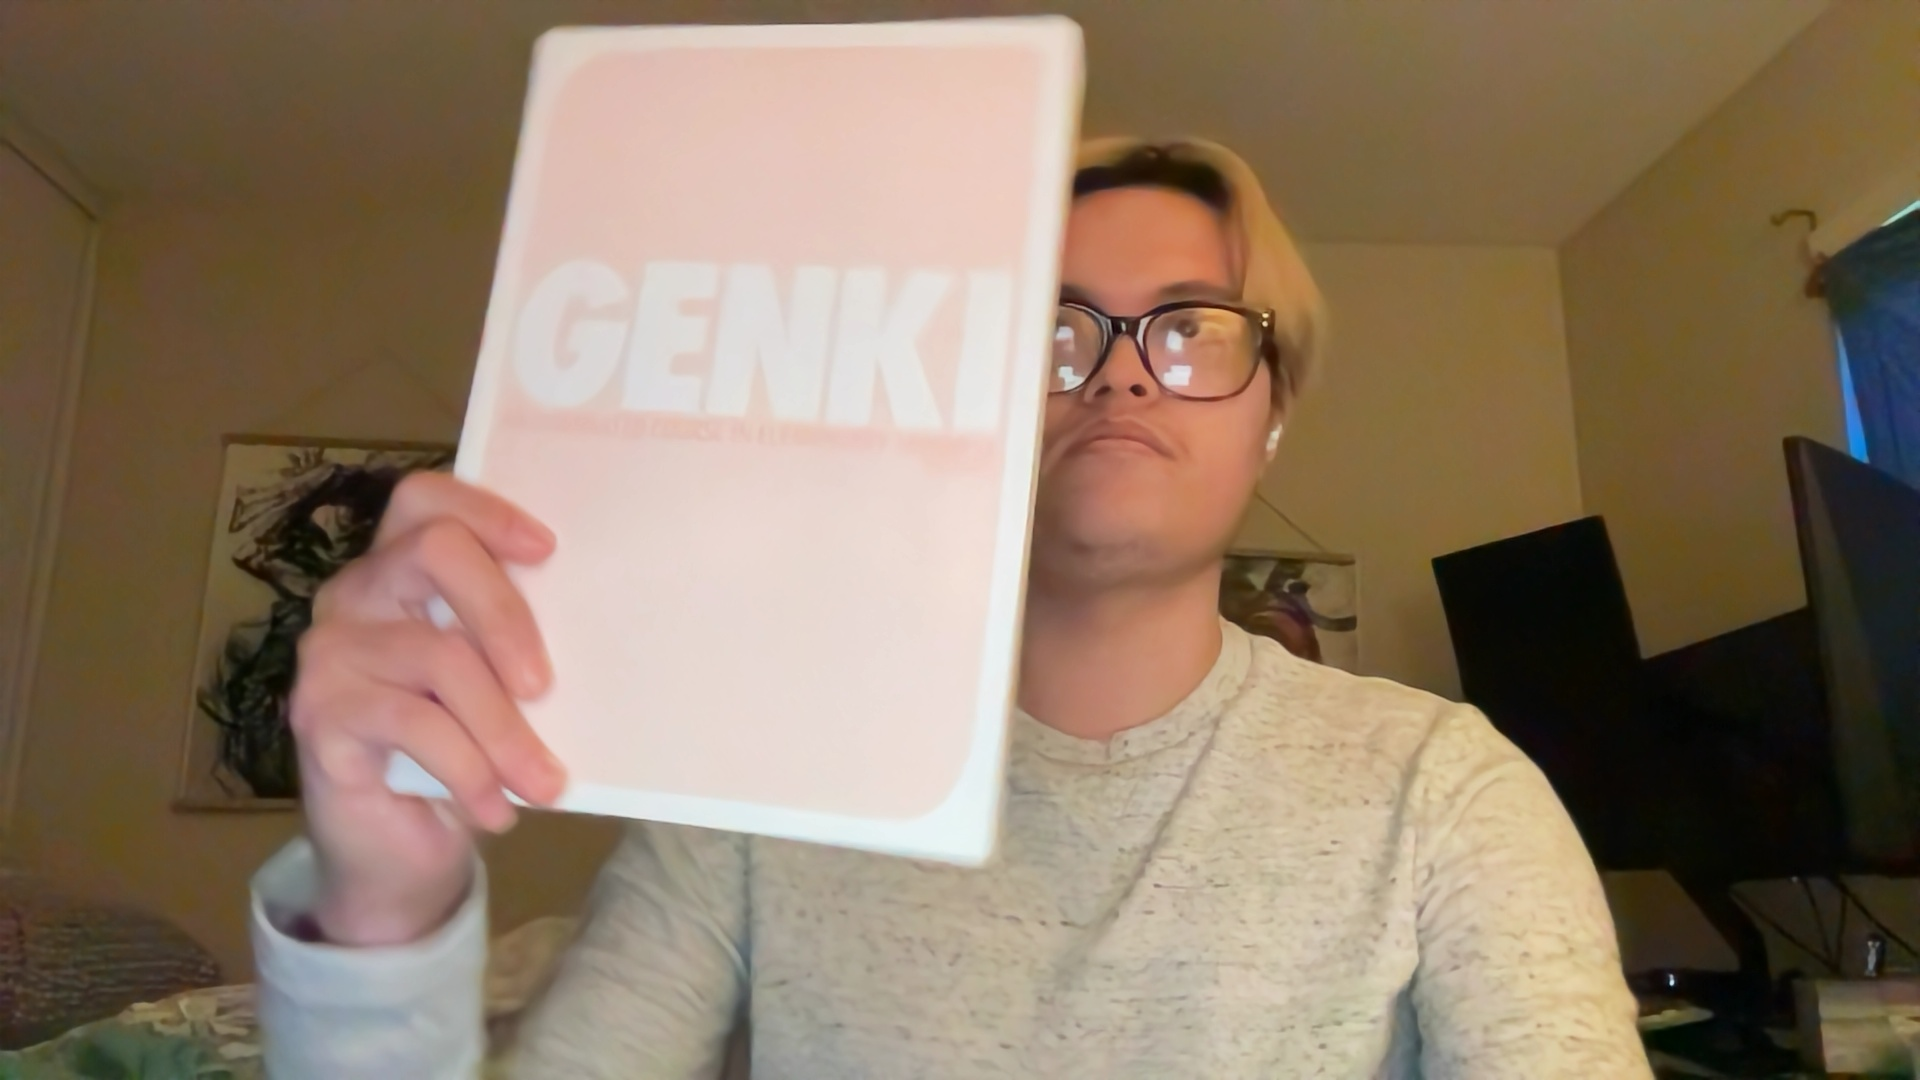book: (360, 4, 1097, 882)
